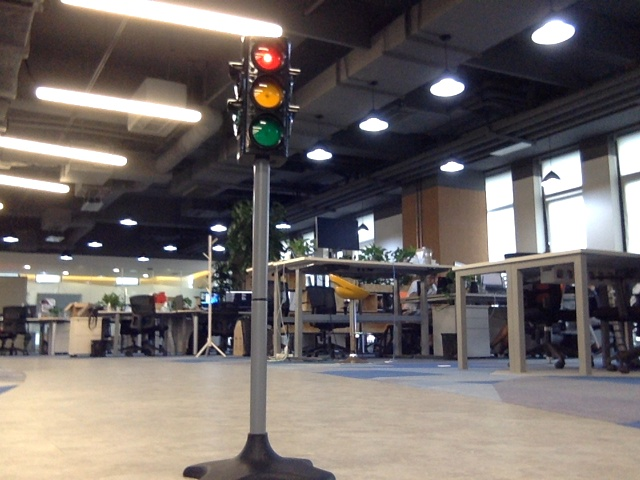red: (246, 42, 283, 151)
